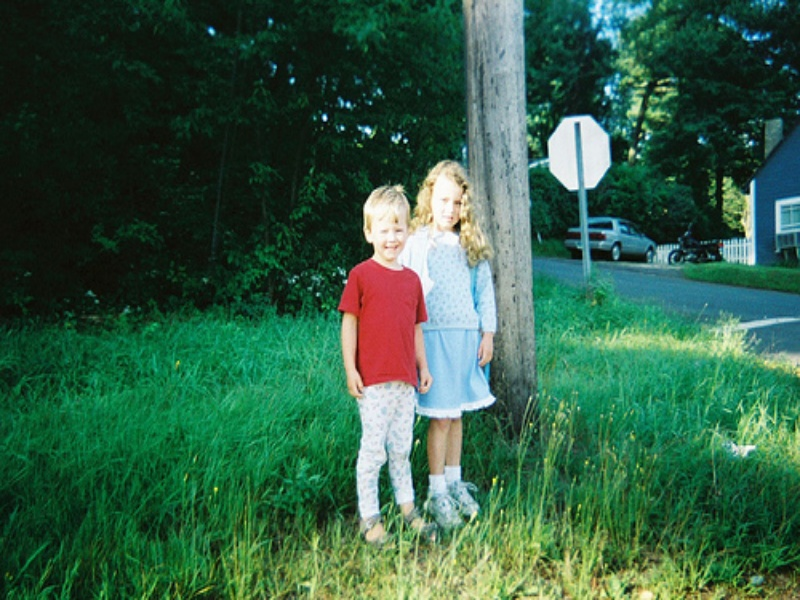car: (566, 216, 657, 263)
person: (400, 159, 496, 527), (339, 186, 433, 539)
